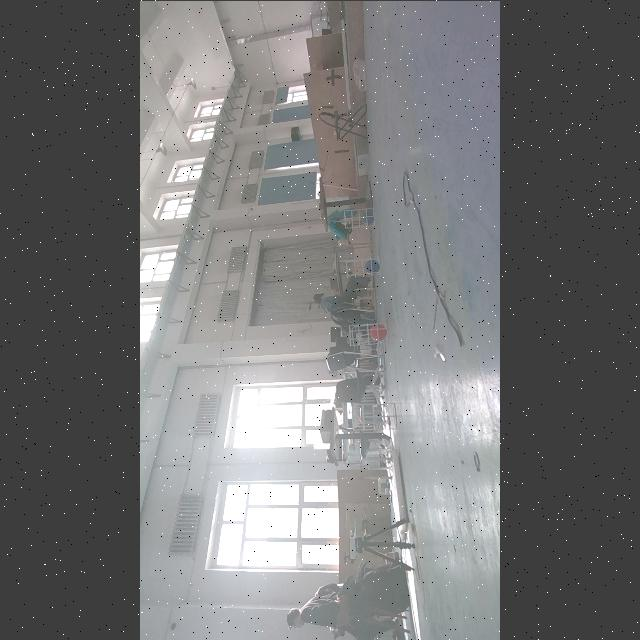B: (366, 259, 379, 277), (362, 210, 376, 224)
R: (372, 322, 386, 340)
S: (350, 401, 400, 432), (348, 318, 390, 348), (344, 254, 384, 282), (344, 204, 380, 232)
